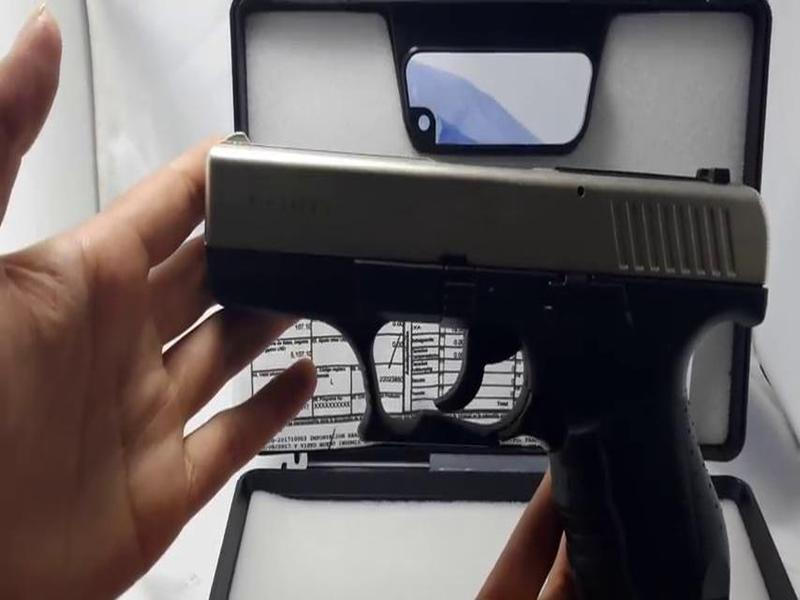Pistola: (157, 108, 800, 568)
